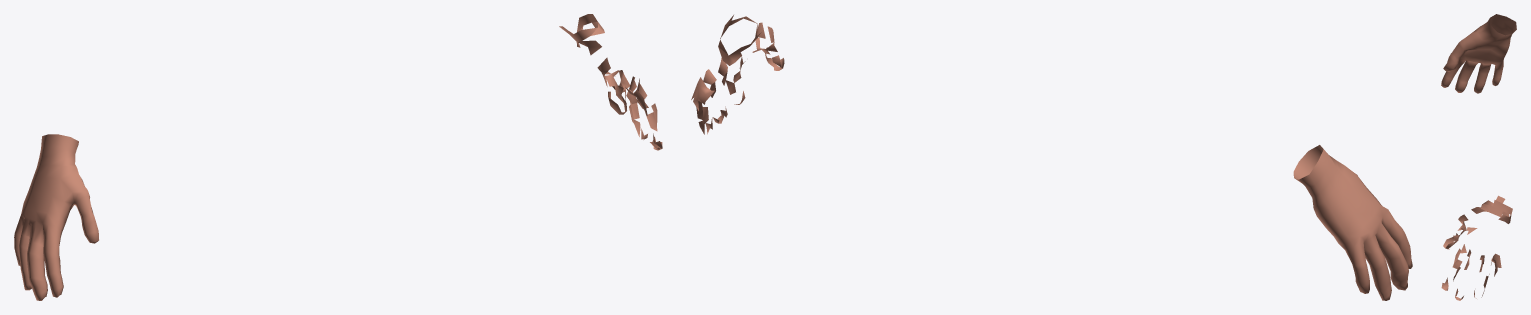
The model's file is profesor_manoder.glb.
The picture shows the model from 3 angles, left to right: view 1: azimuth 30°, elevation 25°; view 2: azimuth 150°, elevation 25°; view 3: azimuth 270°, elevation 25°; orthographic projection. The views are drawn at different scales.
Visible parts, largest first — view 1: Object_22; view 2: Object_22; view 3: Object_22.
Part boxes in pixels (bbox=[...]): Object_22: bbox=[14, 14, 662, 300]; Object_22: bbox=[691, 15, 1412, 300]; Object_22: bbox=[1441, 14, 1516, 300].
Bounding box in the file's own units: 0.2906 × 0.0601 × 0.0441.
Materials: 1 (1 with a texture image).
